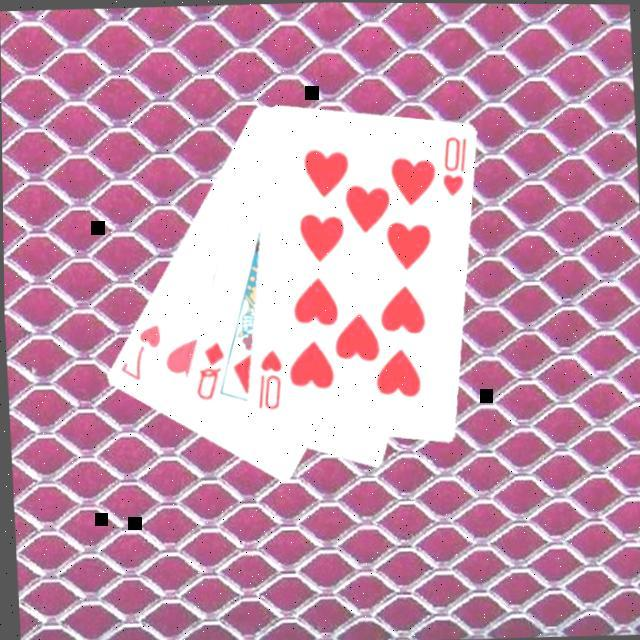10H: (248, 347, 284, 414), (434, 134, 470, 201)
7H: (112, 322, 164, 386)
QD: (187, 340, 227, 404)
